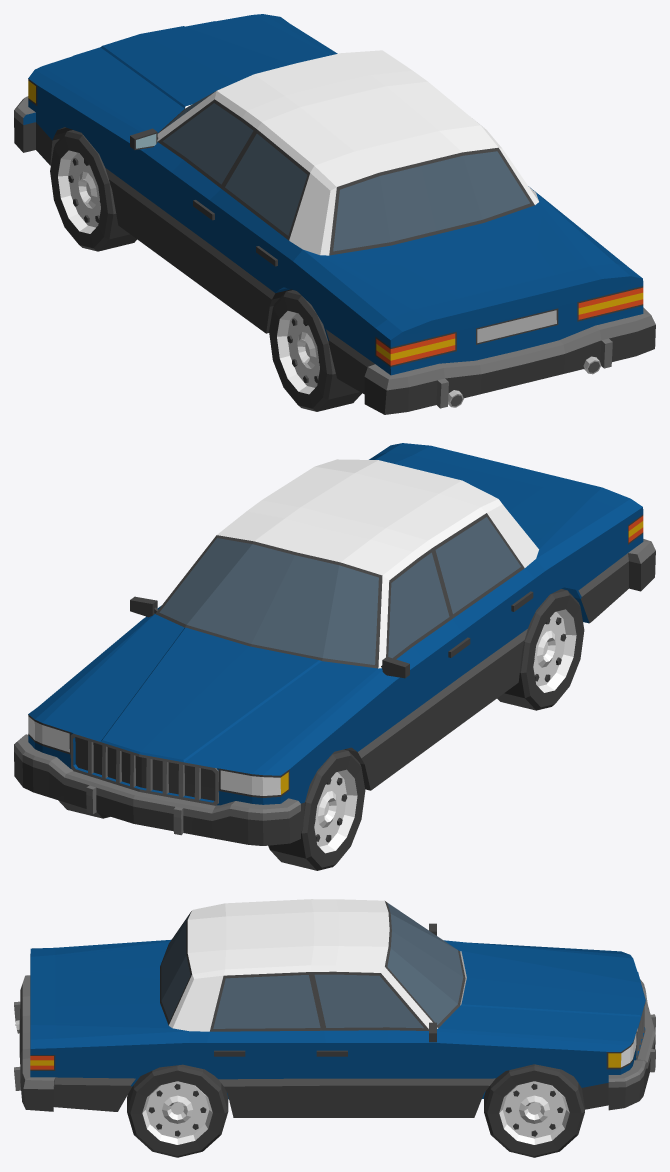
The model's file is abandoned_classic.glb.
The picture shows the model from 3 angles, top to bottom: view 1: azimuth 30°, elevation 25°; view 2: azimuth 150°, elevation 25°; view 3: azimuth 270°, elevation 25°; orthographic projection. The views are drawn at different scales.
Parts seen in each view (by area): view 1: Classic Car_9, Classic Car_9 BL Tire, Classic Car_9 FL Tire; view 2: Classic Car_9, Classic Car_9 FL Tire, Classic Car_9 BL Tire; view 3: Classic Car_9, Classic Car_9 BR Tire, Classic Car_9 FR Tire.
Boxes of the visible parts, x1,y1,x2,y2 form: Classic Car_9: (14, 14, 655, 414); Classic Car_9 BL Tire: (269, 290, 362, 411); Classic Car_9 FL Tire: (50, 130, 136, 251); Classic Car_9: (14, 443, 655, 845); Classic Car_9 FL Tire: (268, 749, 365, 870); Classic Car_9 BL Tire: (497, 589, 584, 710); Classic Car_9: (14, 899, 655, 1117); Classic Car_9 BR Tire: (127, 1064, 228, 1157); Classic Car_9 FR Tire: (484, 1064, 584, 1157).
Size of the model in its own units: 1.71 by 1.29 by 4.2.
2 materials, 2 textured.
